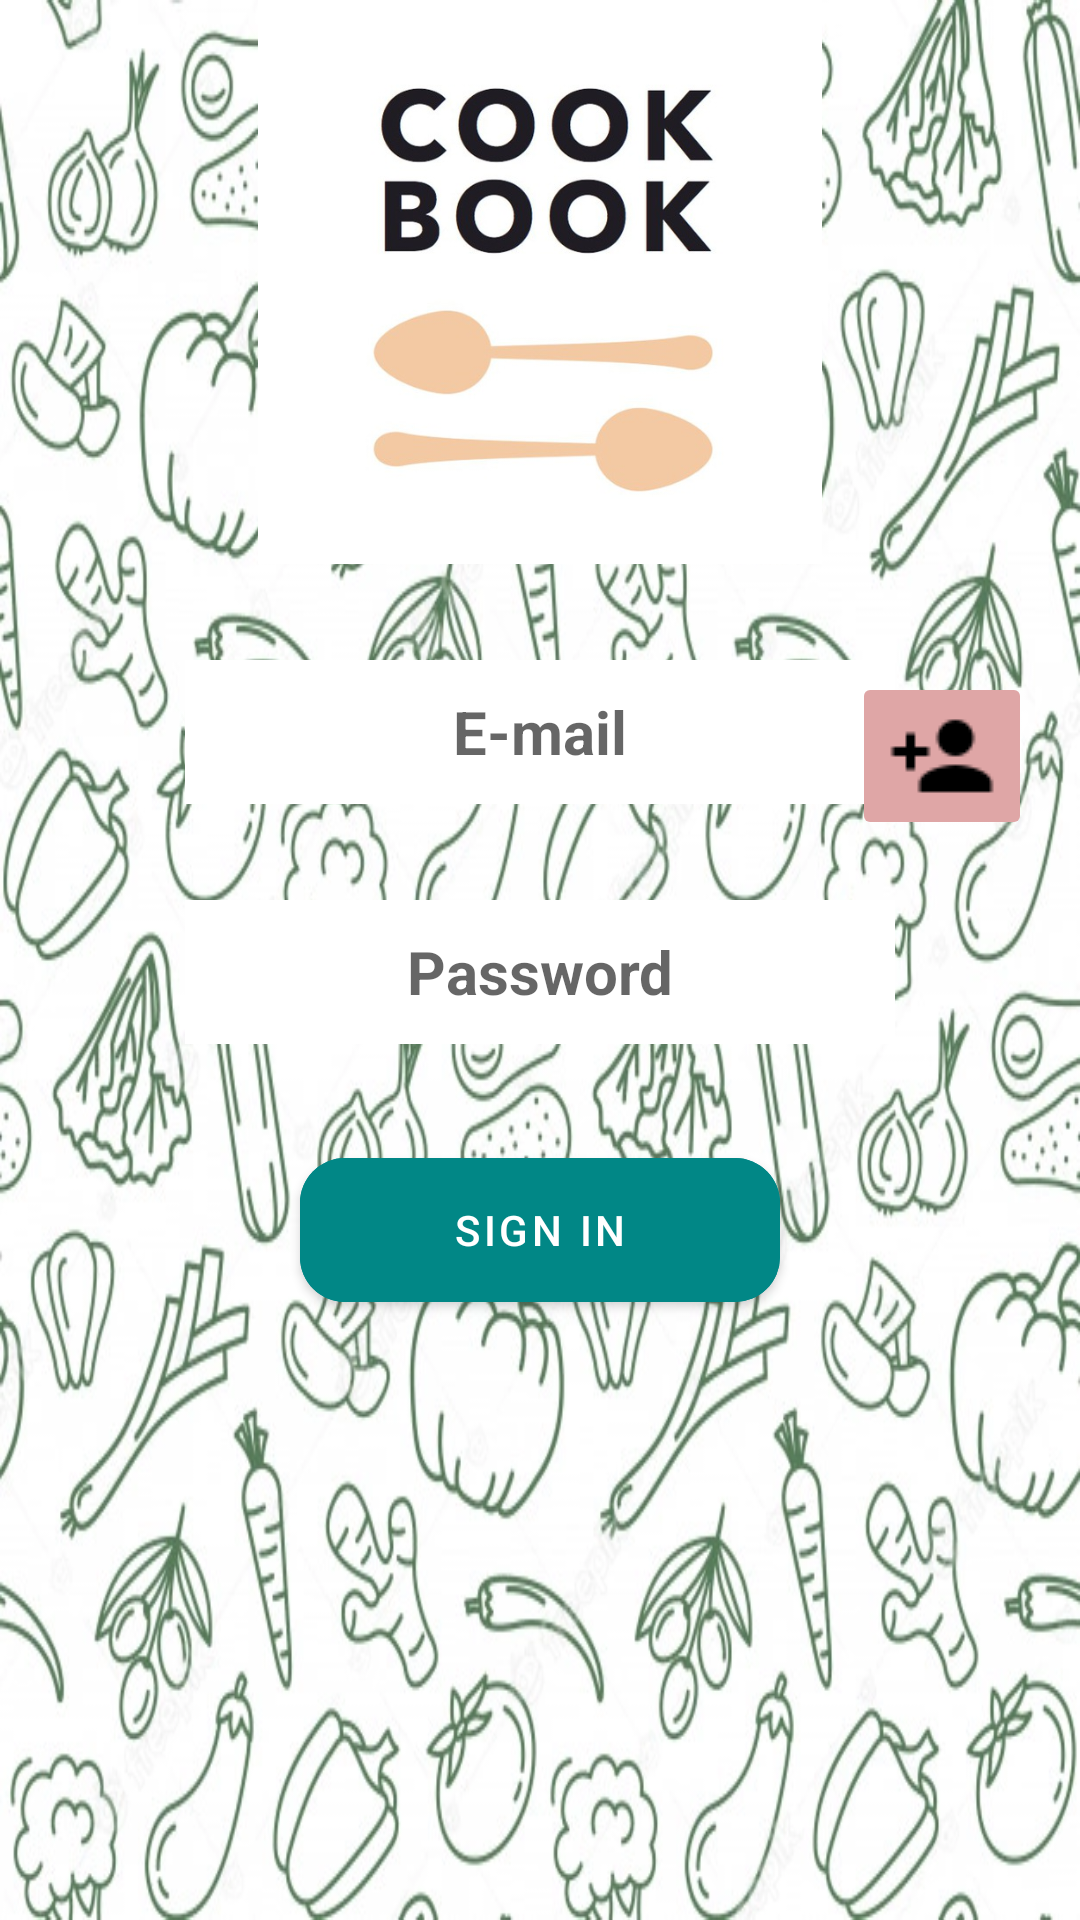

Icons on this 1080×1920 Android screen, each with its box as (x1, y1, x2, y2):
account plus: (852, 672, 1032, 840)
